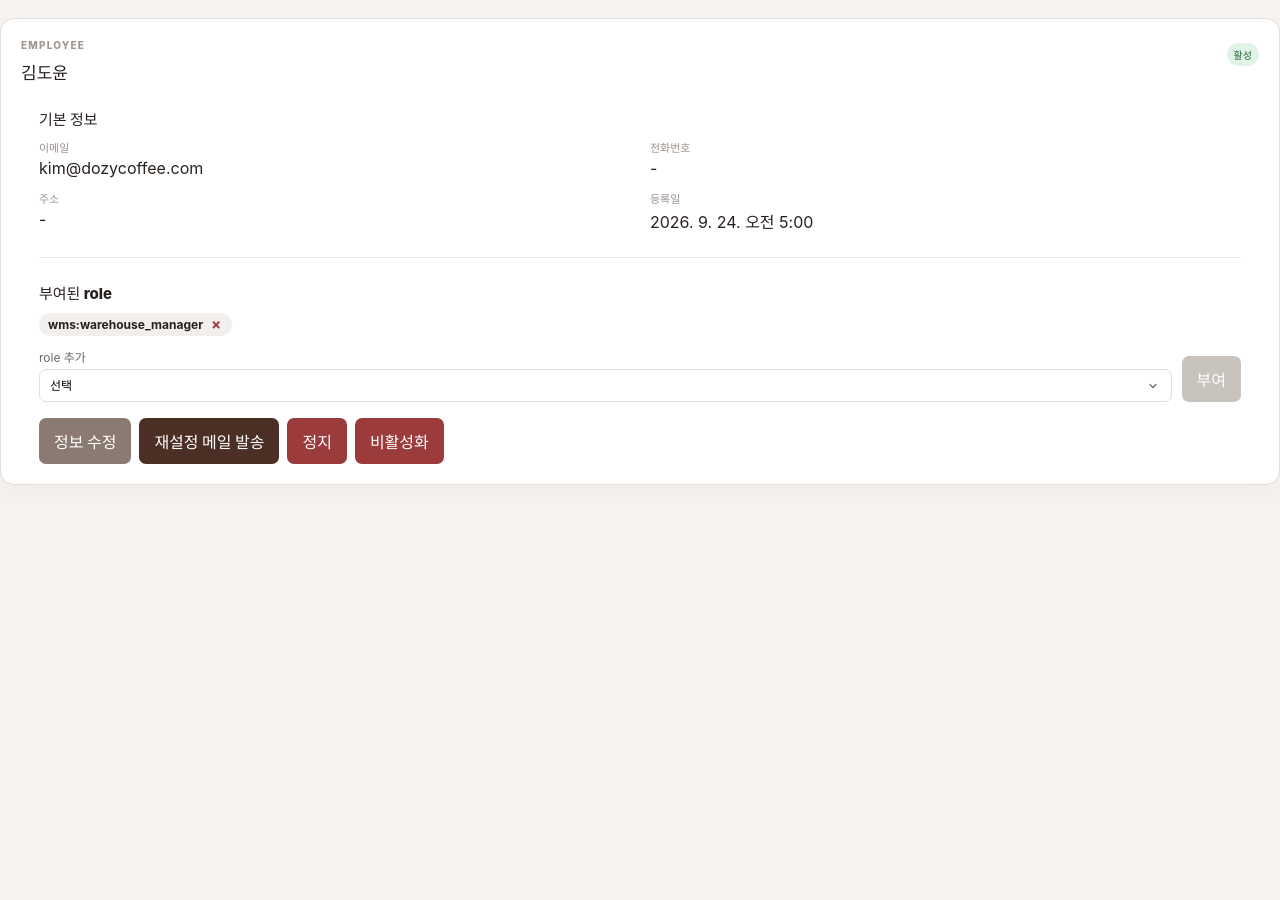
Test: EmployeeDetail 작업 실행 › 정지는 사유를 입력해야 실행되고 사유를 담아 요청한다
This screenshot has width=1280, height=900.
Click the button "정지".
click(317, 441)  # box [287,418,347,464]
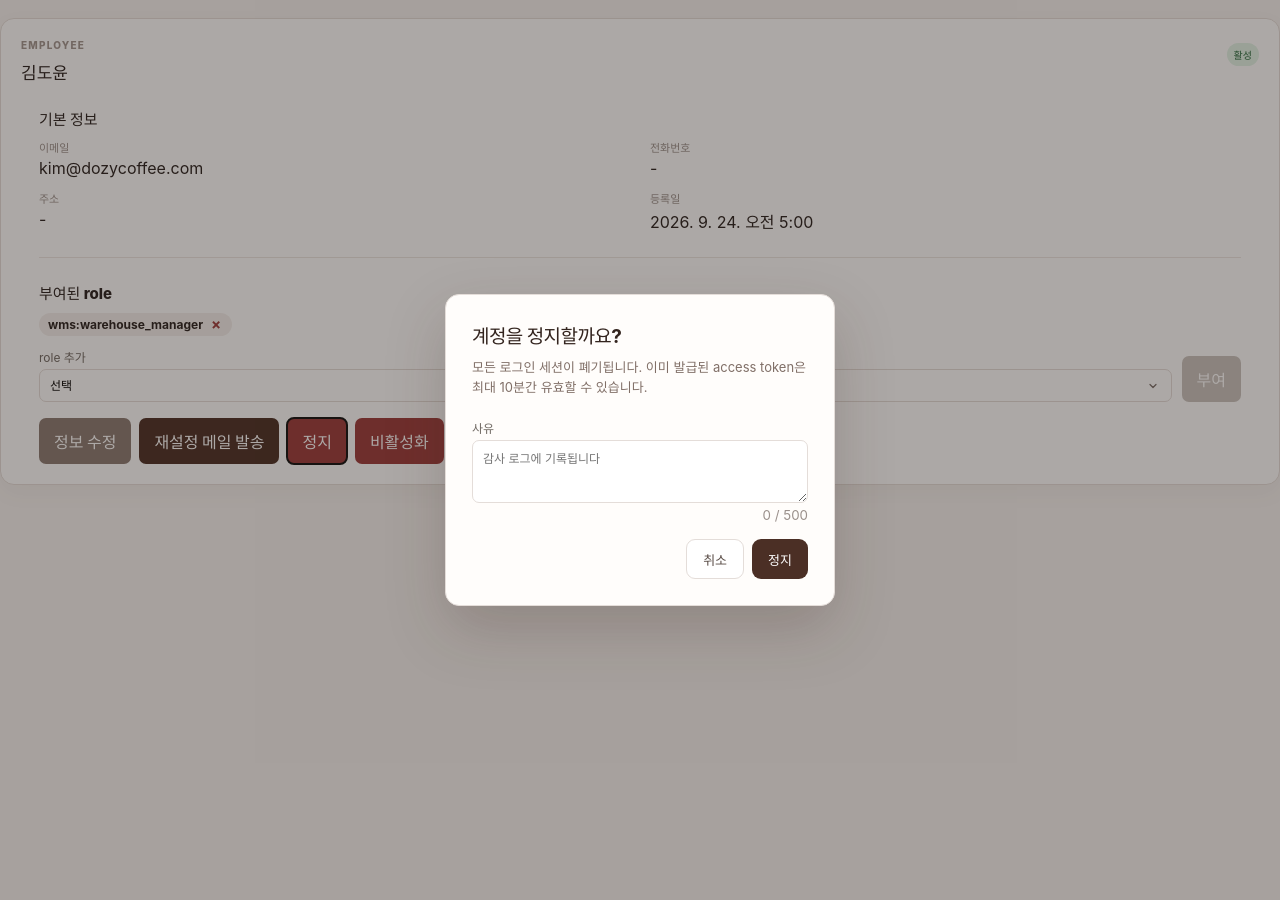
Expected: the dialog shows "계정을 정지할까요?", [472,325,621,348]
Type "계정 탈취 의심" into the text box labelled "사유".
click(640, 472); type("계정 탈취 의심")  # box [472,440,808,503]
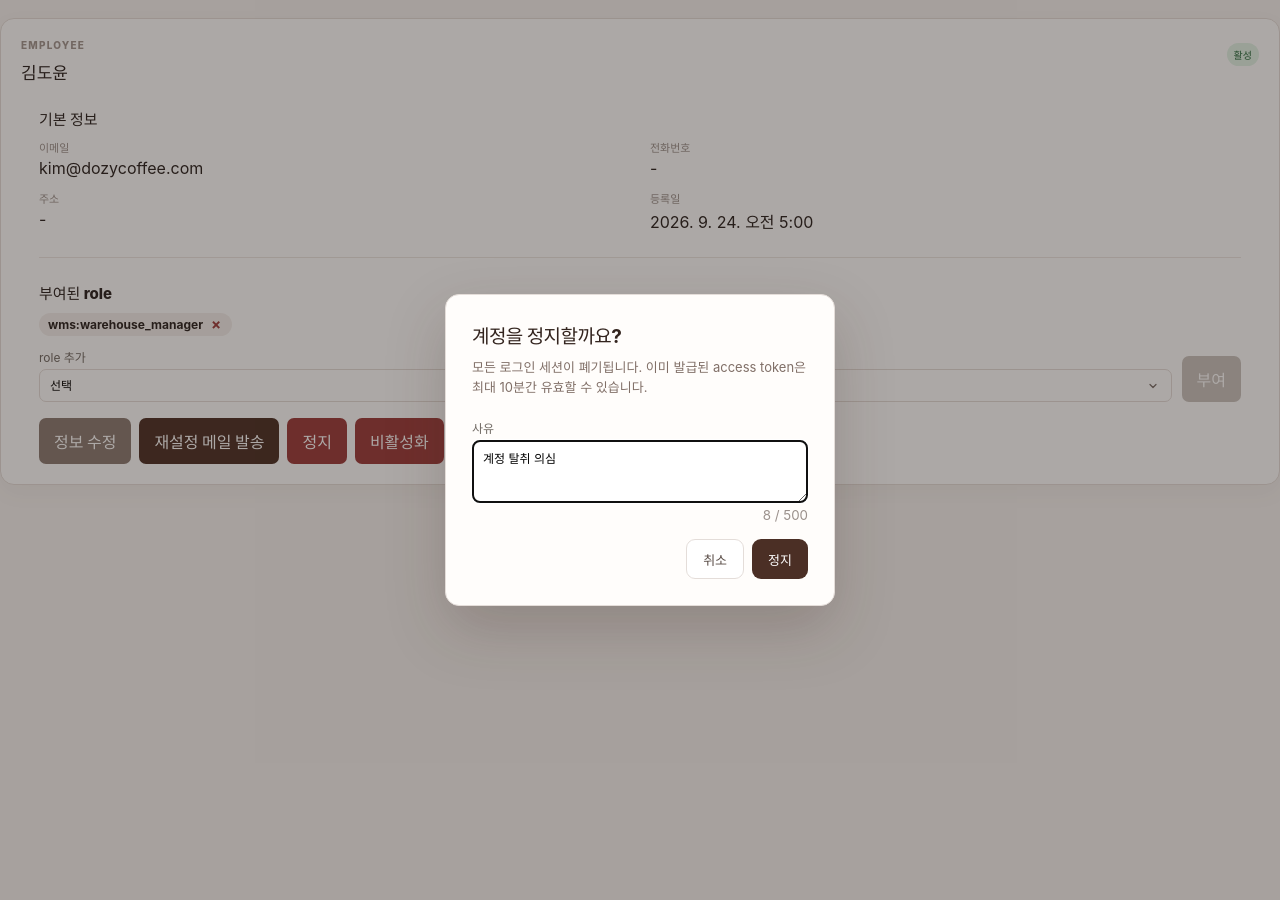
Click the button "정지".
click(780, 559)  # box [752,539,808,579]
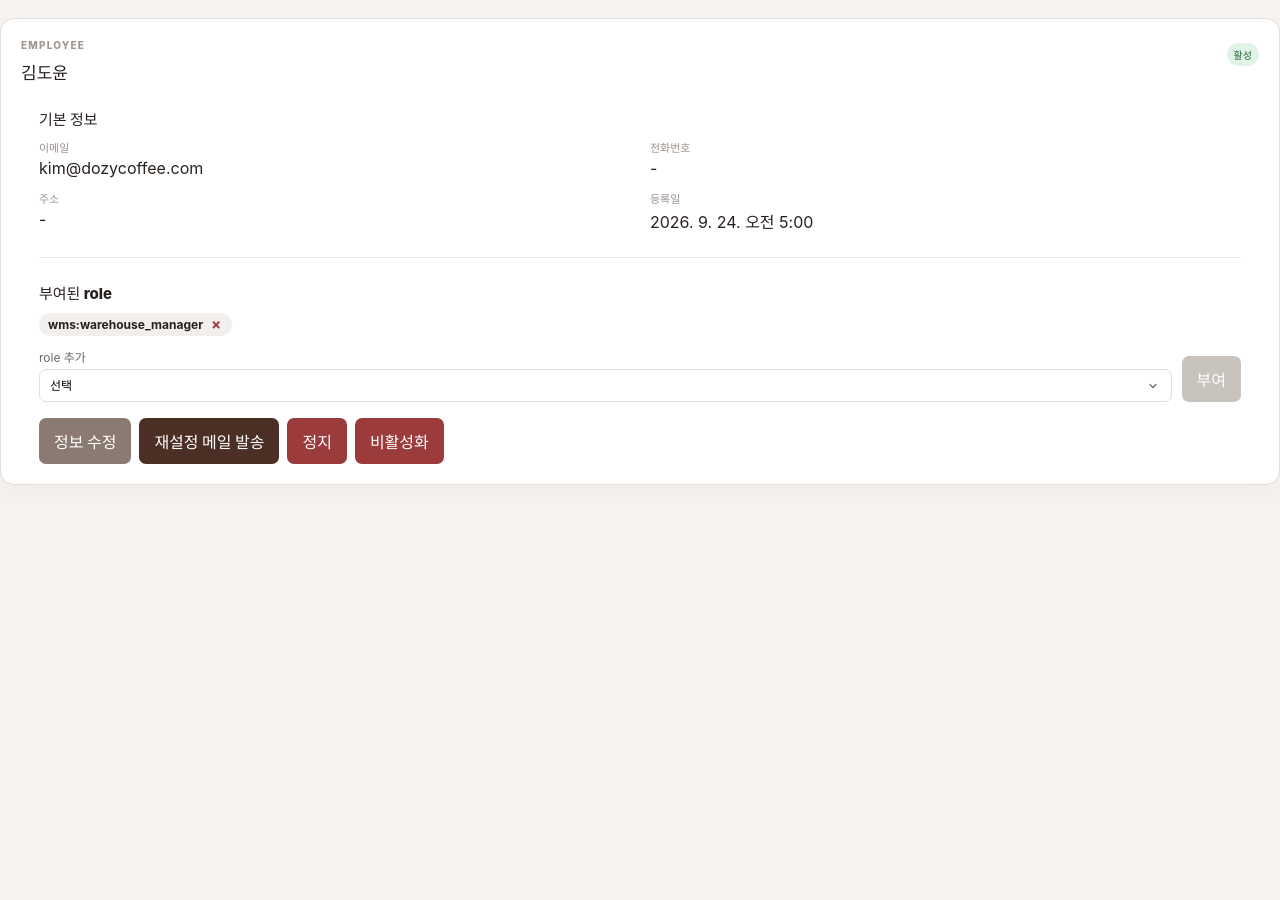
Expected: the dialog is gone
